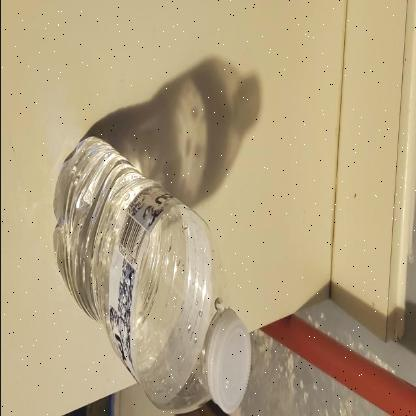Plastic Bottle: (53, 138, 249, 414)
